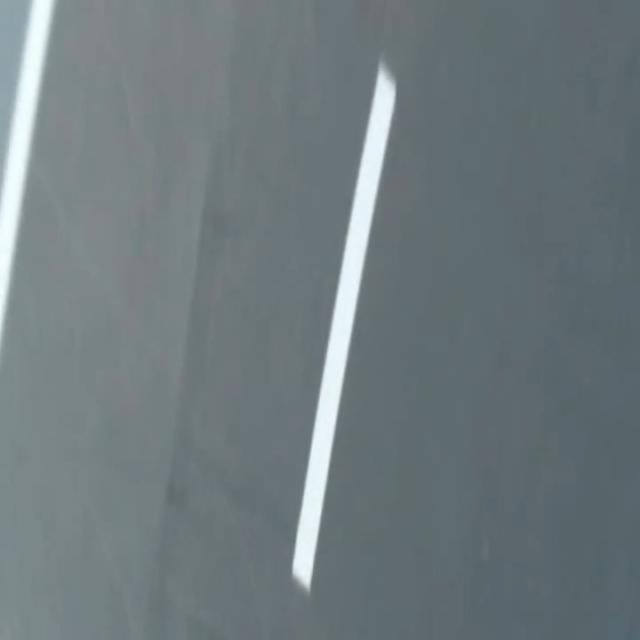center: (292, 62, 396, 592)
left: (0, 0, 55, 350)
